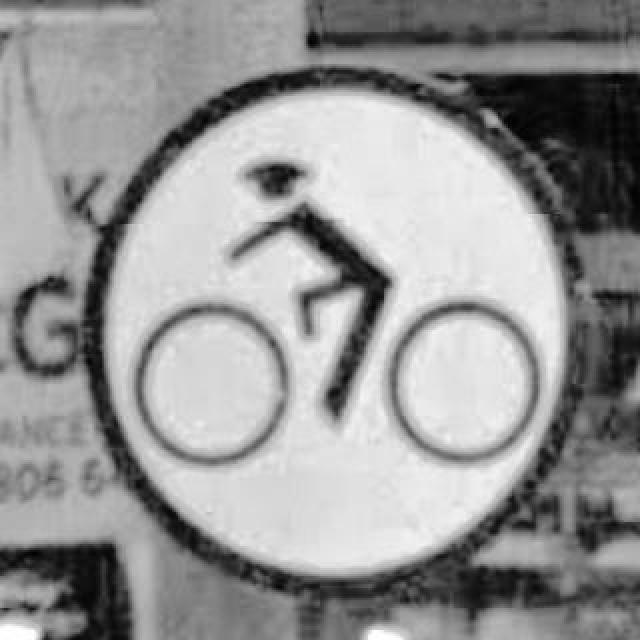bike lane: (82, 62, 594, 594)
